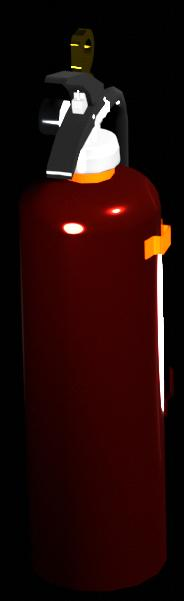fire_extinguisher: (0, 1, 184, 601)
